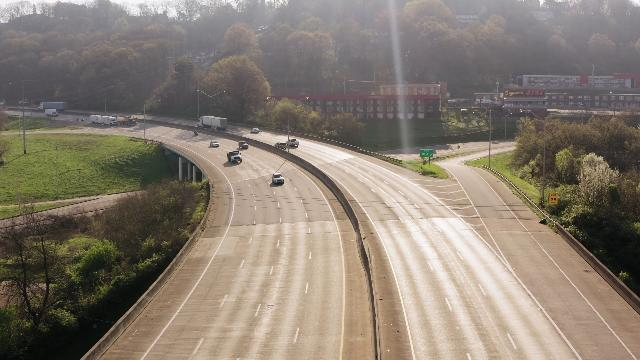car: (270, 171, 286, 187), (227, 151, 244, 164), (274, 141, 286, 150), (238, 141, 249, 149), (209, 141, 220, 147), (250, 128, 260, 133)
motorcycle: (194, 131, 199, 136)
pickup-truck: (287, 139, 299, 147)
truck: (197, 115, 227, 131), (38, 101, 68, 111), (89, 115, 118, 125), (118, 115, 137, 126), (44, 109, 59, 117)
